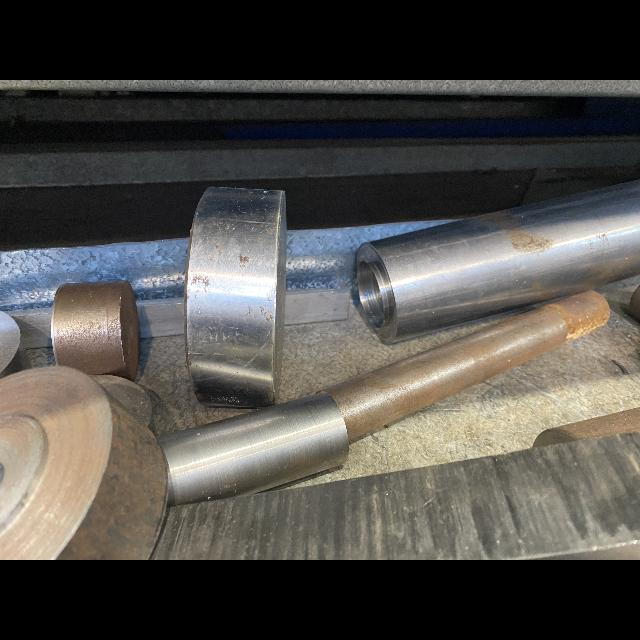Ferrous Metal: (356, 178, 640, 345), (315, 289, 611, 441), (0, 366, 167, 560), (184, 185, 287, 408), (157, 391, 349, 506), (51, 280, 141, 382), (532, 407, 640, 447), (284, 288, 350, 325), (0, 310, 33, 379), (4, 307, 52, 349), (136, 298, 184, 338)
Stainless Steel: (154, 432, 640, 560)
